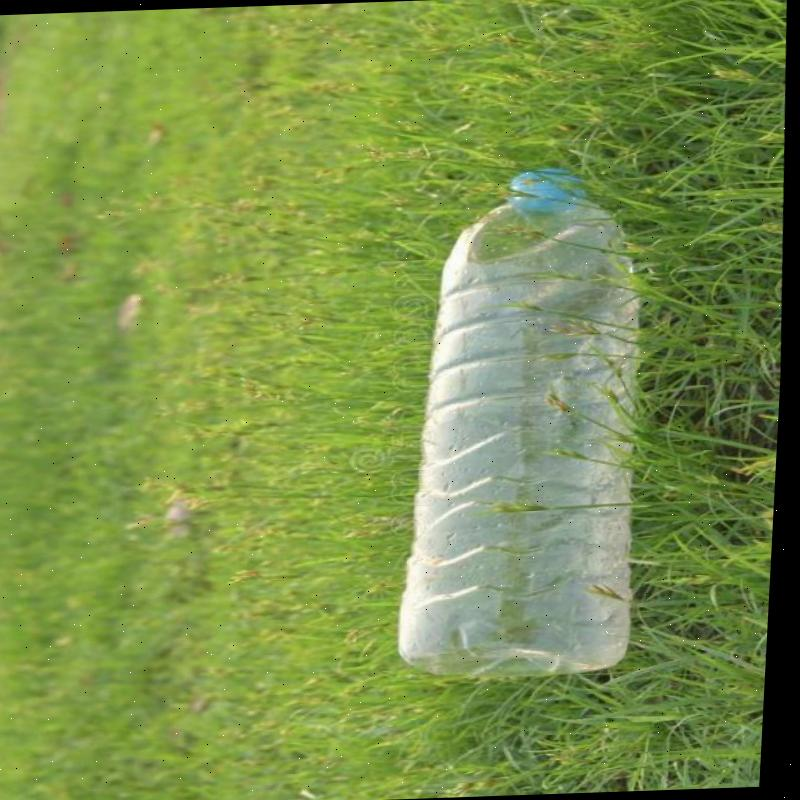botella: (385, 162, 662, 680)
